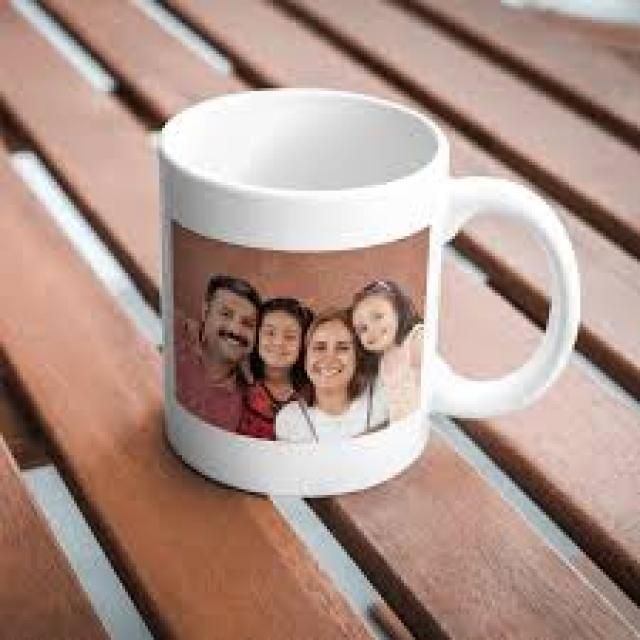taza: (158, 85, 580, 497)
